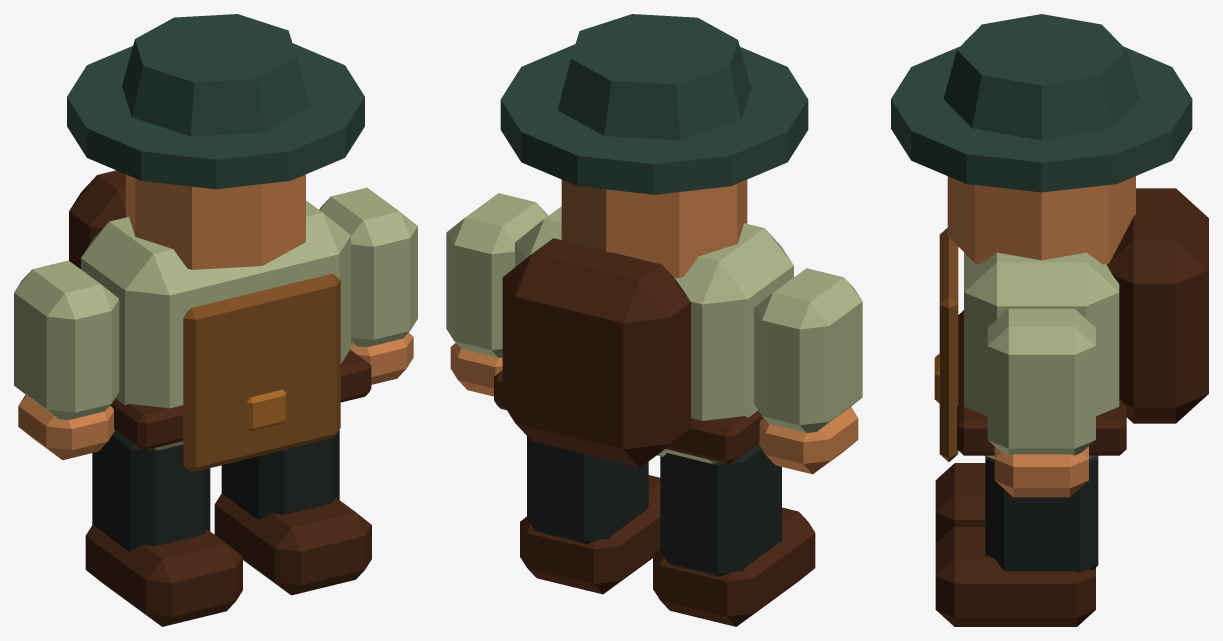
Rendered from engineer.glb.
3 renders of one model, left to right at view 1: azimuth 30°, elevation 25°; view 2: azimuth 150°, elevation 25°; view 3: azimuth 270°, elevation 25°, orthographic. The views are drawn at different scales.
Parts seen in each view (by area): view 1: engineer_body, Trouser, Sleeve, Trouser.001, Sleeve.001; view 2: engineer_body, Trouser, Sleeve, Trouser.001, Sleeve.001; view 3: engineer_body, Trouser.001, Sleeve.001, Trouser.
Part boxes in pixels (x1,y1,x2,y2): engineer_body: [67, 14, 371, 472]; Trouser: [85, 430, 242, 626]; Sleeve: [14, 260, 119, 460]; Trouser.001: [214, 430, 371, 595]; Sleeve.001: [319, 187, 417, 384]; engineer_body: [494, 14, 808, 467]; Trouser: [653, 443, 815, 626]; Sleeve: [754, 268, 862, 474]; Trouser.001: [520, 436, 660, 594]; Sleeve.001: [446, 193, 547, 396]; engineer_body: [891, 14, 1208, 461]; Trouser.001: [935, 456, 1098, 626]; Sleeve.001: [987, 308, 1095, 497]; Trouser: [935, 463, 985, 543].
Size of the model in its own units: 0.92 by 1.24 by 0.675.
